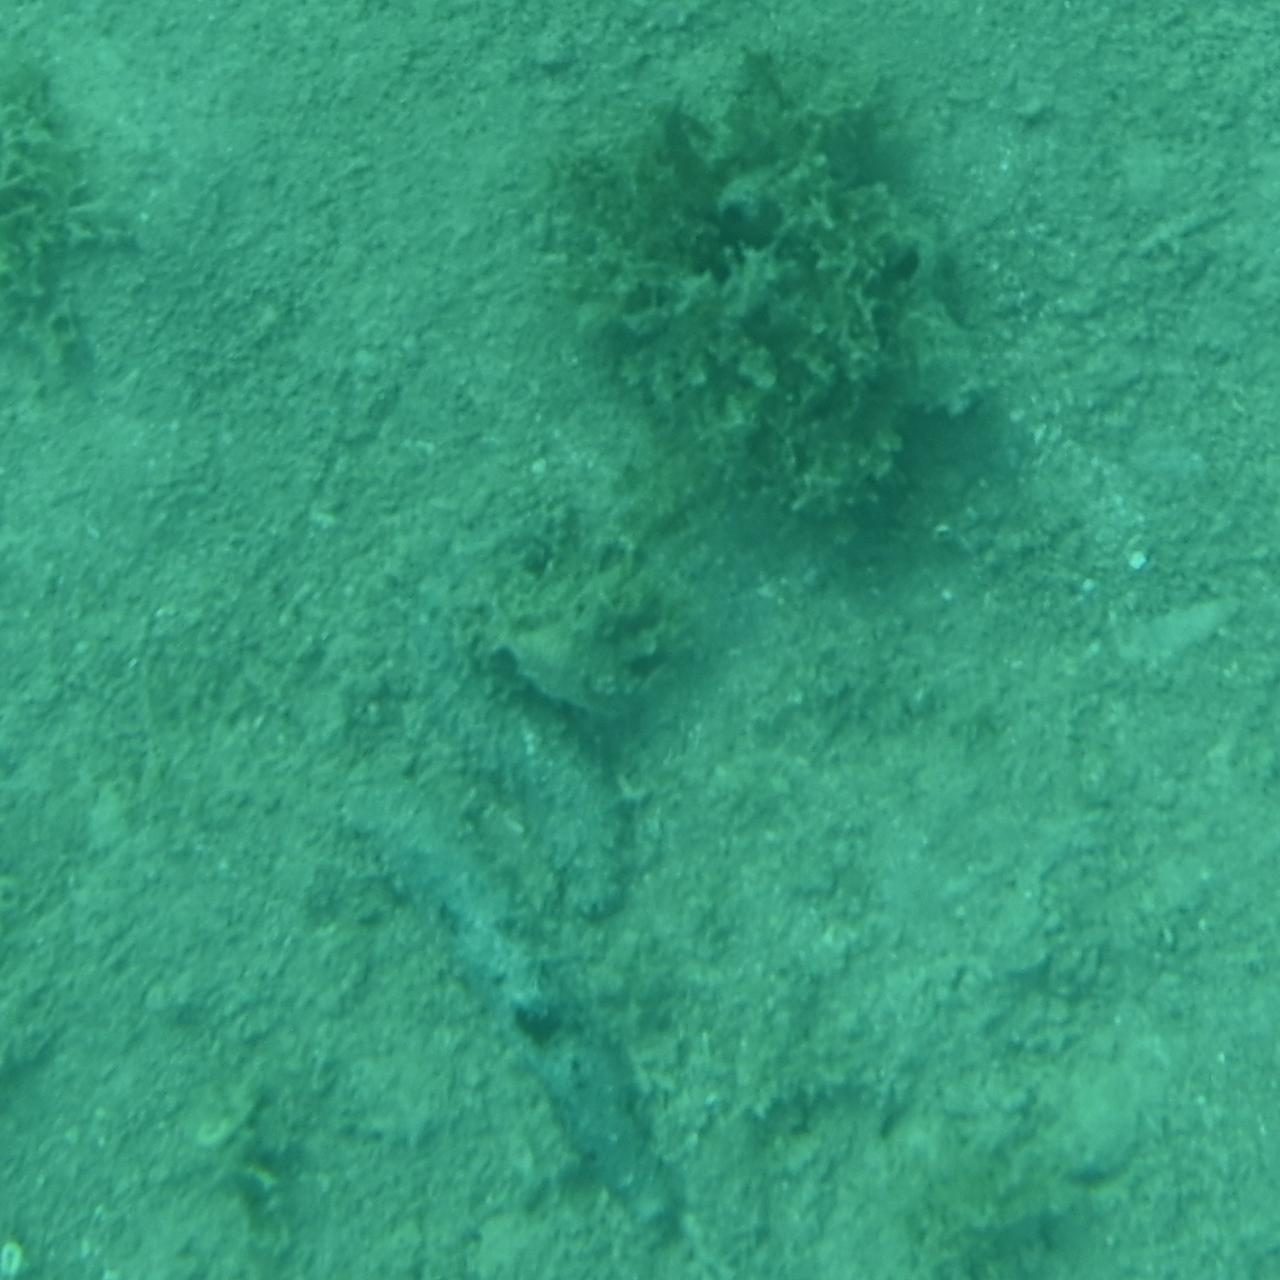Holothuria tubulosa: (295, 726, 696, 1253), (428, 629, 651, 928)
Phaeophyceae -cfr Cystoseira-: (544, 23, 1024, 558)
